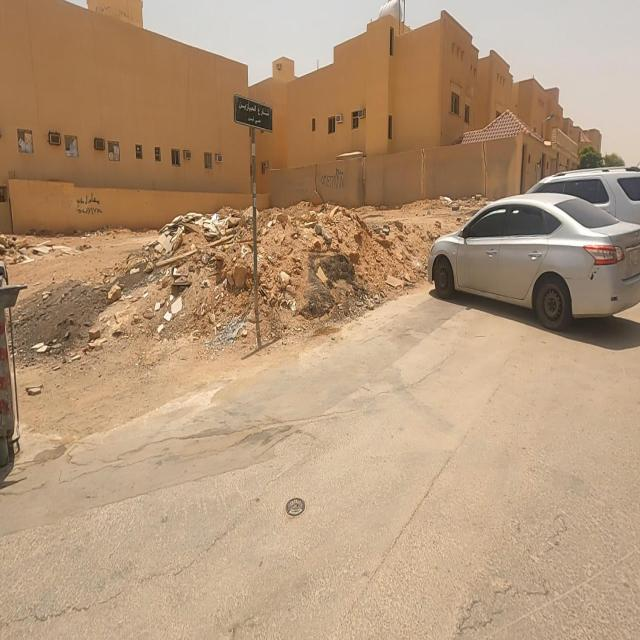Graffiti: (77, 191, 104, 219), (322, 169, 347, 192)
